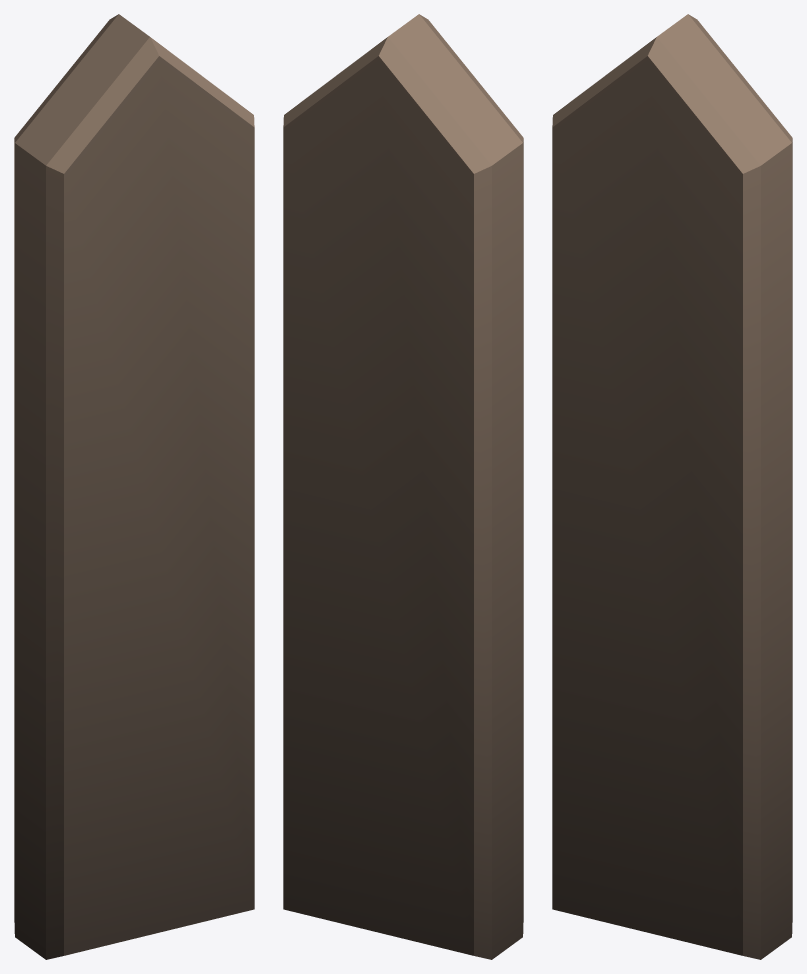
The model's file is wood_wall_2.fbx.
The picture shows the model from 3 angles, left to right: view 1: azimuth 30°, elevation 25°; view 2: azimuth 150°, elevation 25°; view 3: azimuth 330°, elevation 25°; orthographic projection.
Parts seen in each view (by area): view 1: wood_wall_2; view 2: wood_wall_2; view 3: wood_wall_2.
Part boxes in pixels (<box>): wood_wall_2: <box>14,14,254,959</box>; wood_wall_2: <box>283,14,523,959</box>; wood_wall_2: <box>552,14,792,959</box>.
Size of the model in its own units: 0.4 by 0.1653 by 1.65.
